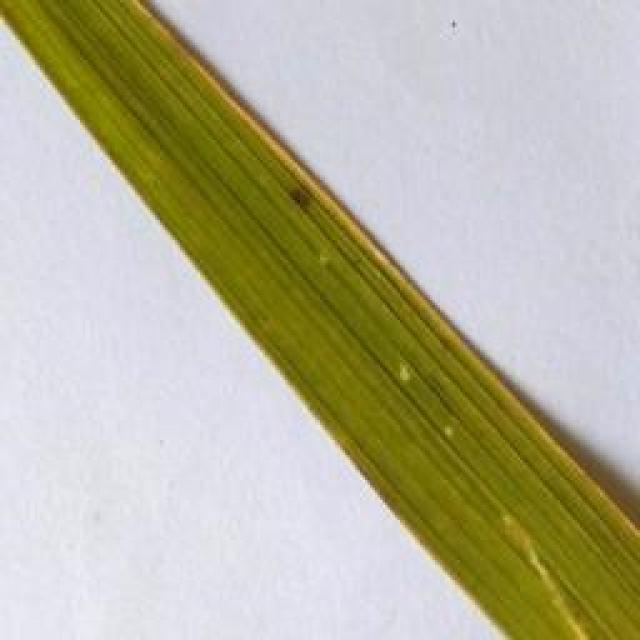Bacterial_Blight: (0, 0, 640, 640)
Brown_Spot: (283, 179, 315, 212)
